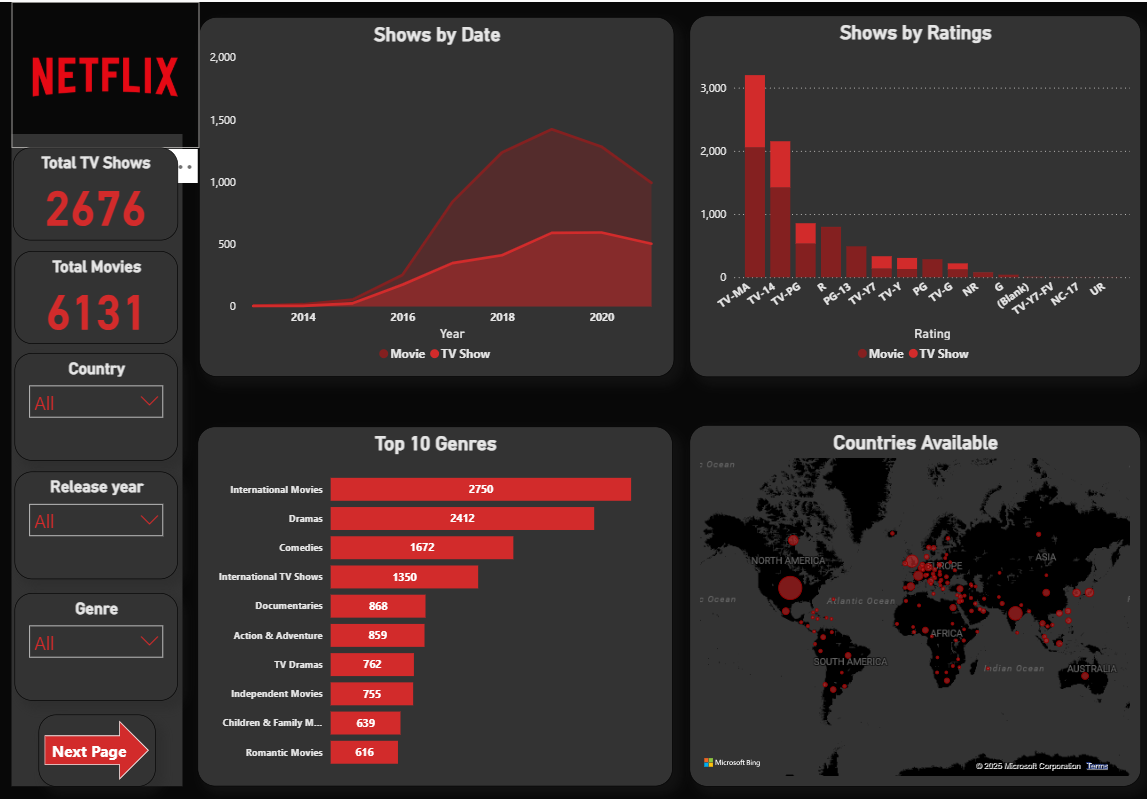

This screenshot's page, from the dashboard's own definition file:
{"tool":"powerbi","page":{"name":"Overview","canvas":[1300,900],"ordinal":0},"visuals":[{"type":"shape","box":[15.2,148.7,192.6,735],"z":0},{"type":"areaChart","title":"Shows by Date","fields":{"Y":["CountNonNull(netflix_data netflix_titles.show_id)"],"Category":["netflix_data netflix_titles.date_added.Variation.Date Hierarchy.Year"],"Series":["netflix_data netflix_titles.type"]},"box":[226.4,16.9,535.6,405.5],"z":1000},{"type":"clusteredBarChart","title":"Top 10 Genres","fields":{"Category":["netflix_data netflix_listed_in.category"],"Y":["CountNonNull(netflix_data netflix_listed_in.show_id)"]},"box":[224.7,478.2,535.6,405.5],"z":2000},{"type":"columnChart","title":"Shows by Ratings","fields":{"Y":["CountNonNull(netflix_data netflix_titles.show_id)"],"Series":["netflix_data netflix_titles.type"],"Category":["netflix_data netflix_titles.rating"]},"box":[778.9,15.2,508.6,407.2],"z":3000},{"type":"map","title":"Countries Available","fields":{"Category":["netflix_data countries_released.country"],"Size":["CountNonNull(netflix_data countries_released.show_id)"]},"box":[778.9,476.5,508.6,407.2],"z":4000},{"type":"image","box":[15.2,0,211.2,163.9],"z":5000},{"type":"card","title":"Total Movies","fields":{"Values":["netflix_data netflix_titles.Total Movies"]},"box":[18.6,280.5,184.2,104.8],"z":6000},{"type":"slicer","title":"Country","fields":{"Values":["netflix_data countries_released.country"]},"box":[18.6,395.4,184.2,121.7],"z":7000},{"type":"slicer","title":"Release year","fields":{"Values":["netflix_data netflix_titles.release_year"]},"box":[18.6,528.9,184.2,121.7],"z":8000},{"type":"shape","box":[45.6,802.6,131.8,81.1],"z":9000},{"type":"card","title":"Total TV Shows","fields":{"Values":["netflix_data netflix_titles.Total TV shows"]},"box":[16.9,163.9,185.9,104.8],"z":10000},{"type":"slicer","title":"Genre","fields":{"Values":["netflix_data netflix_titles.type"]},"box":[18.6,665.7,184.2,121.7],"z":10001}]}

Visuals, with their boxes in screenshot pixels (x1, y1, x2, y2), scaled from the page's 1300x900 canvas onto the 1147x799 screenshot:
shape: x1=13 y1=132 x2=183 y2=785
"Shows by Date" areaChart: x1=200 y1=15 x2=672 y2=375
"Top 10 Genres" clusteredBarChart: x1=198 y1=425 x2=671 y2=785
"Shows by Ratings" columnChart: x1=687 y1=13 x2=1136 y2=375
"Countries Available" map: x1=687 y1=423 x2=1136 y2=785
image: x1=13 y1=0 x2=200 y2=146
"Total Movies" card: x1=16 y1=249 x2=179 y2=342
"Country" slicer: x1=16 y1=351 x2=179 y2=459
"Release year" slicer: x1=16 y1=470 x2=179 y2=578
shape: x1=40 y1=713 x2=157 y2=785
"Total TV Shows" card: x1=15 y1=146 x2=179 y2=239
"Genre" slicer: x1=16 y1=591 x2=179 y2=699
